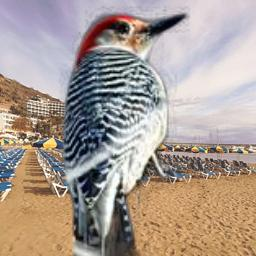Woodpecker: (56, 0, 194, 256)
